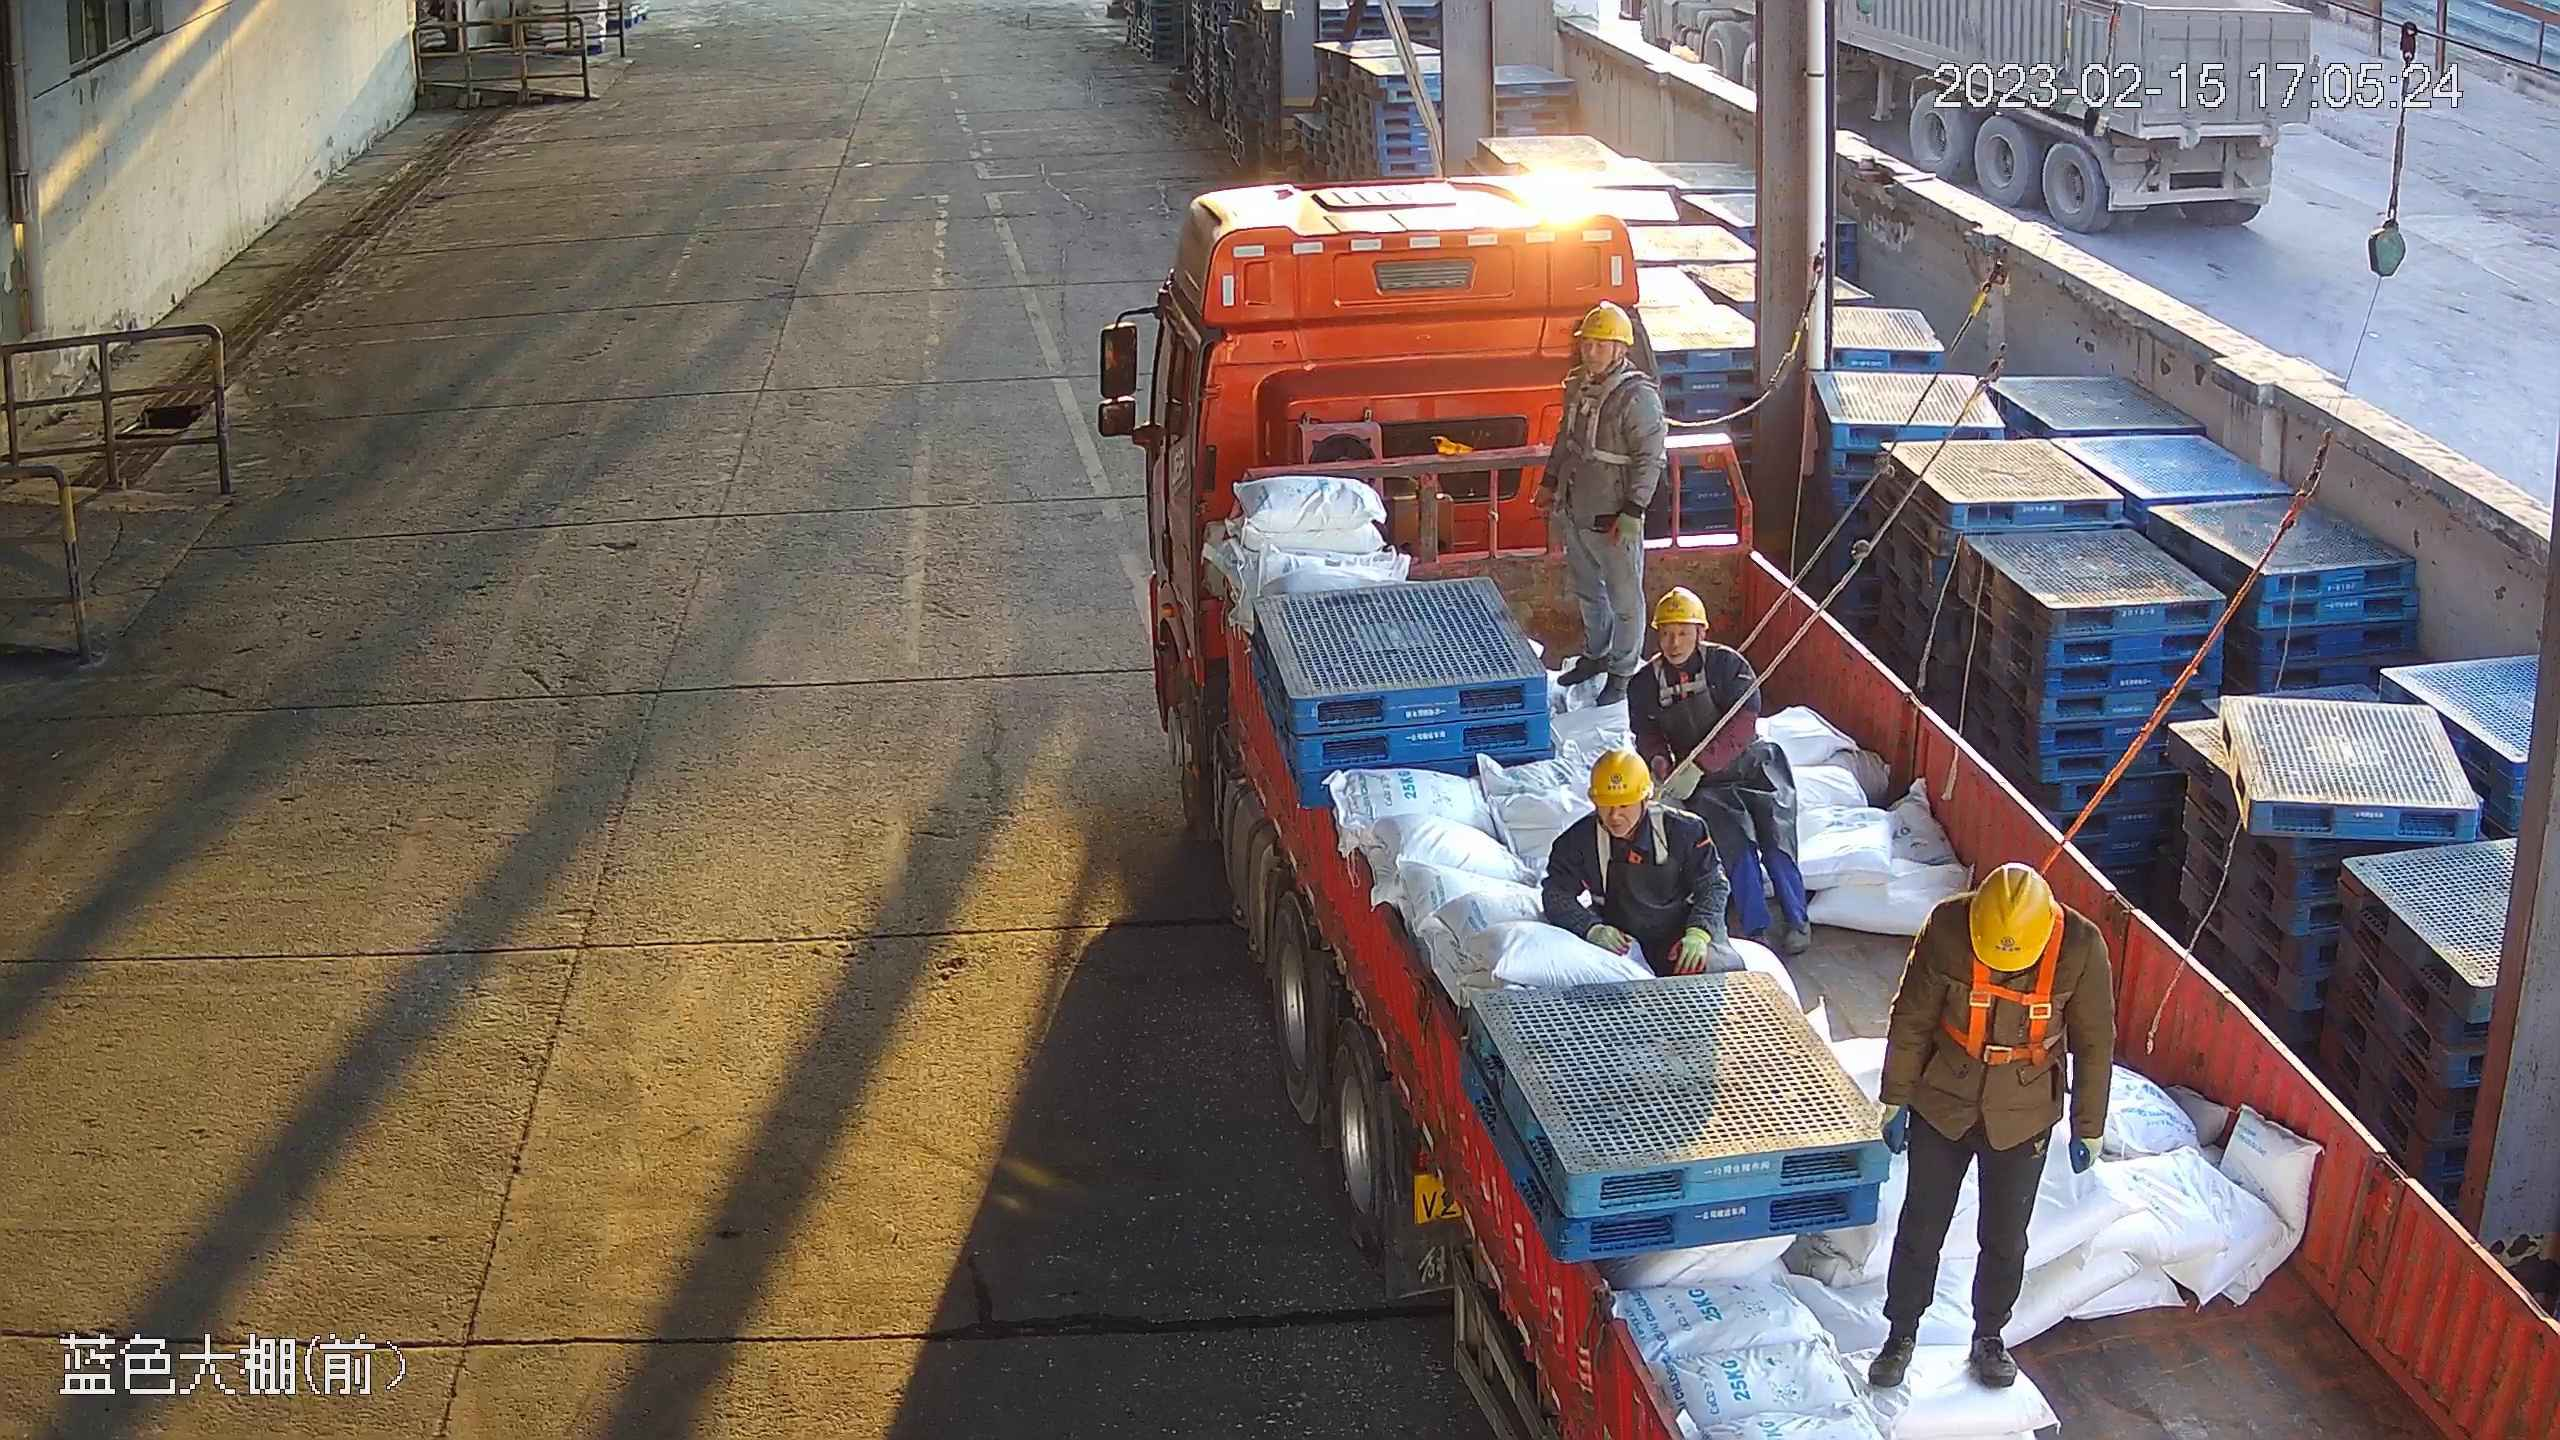belt: (1960, 956, 2065, 1071), (1585, 821, 1701, 896), (1569, 370, 1654, 468), (1645, 652, 1735, 707)
head: (1898, 861, 2112, 1057), (1558, 744, 1719, 897), (1545, 299, 1665, 454), (1635, 583, 1757, 724)
helmet: (1969, 863, 2058, 973), (1587, 745, 1654, 807), (1647, 587, 1709, 630), (1572, 301, 1636, 341)
people: (1866, 860, 2115, 1386), (1628, 586, 1815, 956), (1533, 298, 1671, 707), (1538, 745, 1748, 975)
truck: (1101, 176, 2560, 1440)
